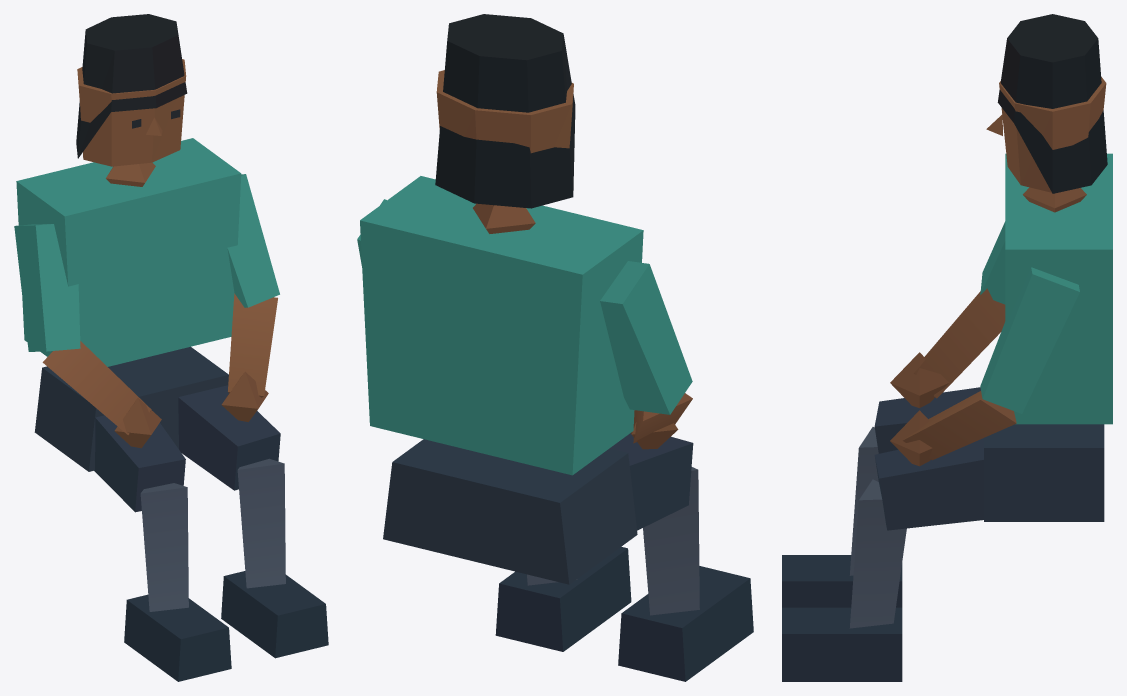
The model's file is fan-02.glb.
The picture shows the model from 3 angles, left to right: view 1: azimuth 30°, elevation 25°; view 2: azimuth 150°, elevation 25°; view 3: azimuth 270°, elevation 25°; orthographic projection. The views are drawn at different scales.
Parts seen in each view (by area): view 1: fan-02; view 2: fan-02; view 3: fan-02.
Part boxes in pixels (box(x1,y1,x2,y2)): fan-02: box(14, 14, 328, 681); fan-02: box(357, 14, 753, 681); fan-02: box(782, 14, 1112, 681).
Size of the model in its own units: 0.7053 by 1.55 by 0.77.
